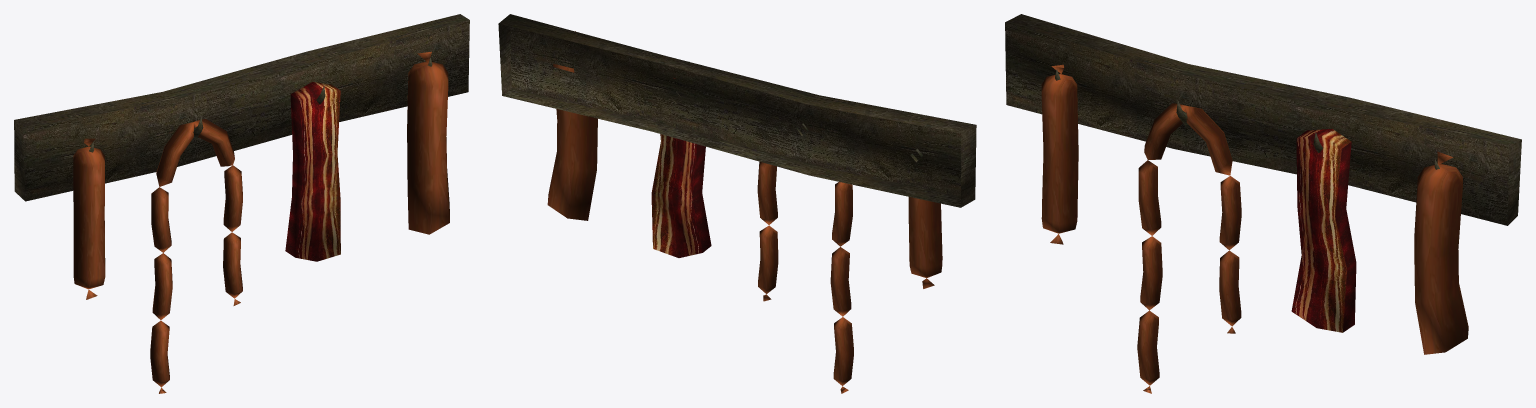
The model's file is KM_VOB_FRESHMEAT_01.glb.
The picture shows the model from 3 angles, left to right: view 1: azimuth 30°, elevation 25°; view 2: azimuth 150°, elevation 25°; view 3: azimuth 330°, elevation 25°; orthographic projection. The views are drawn at different scales.
Visible parts, largest first — view 1: Mesh; view 2: Mesh; view 3: Mesh.
Boxes of the visible parts, x1,y1,x2,y2 form: Mesh: [14, 14, 469, 393]; Mesh: [498, 14, 976, 393]; Mesh: [1005, 14, 1521, 393].
Bounding box in the file's own units: 1.77 × 1.11 × 0.2151.
Materials: 3 (3 with a texture image).
